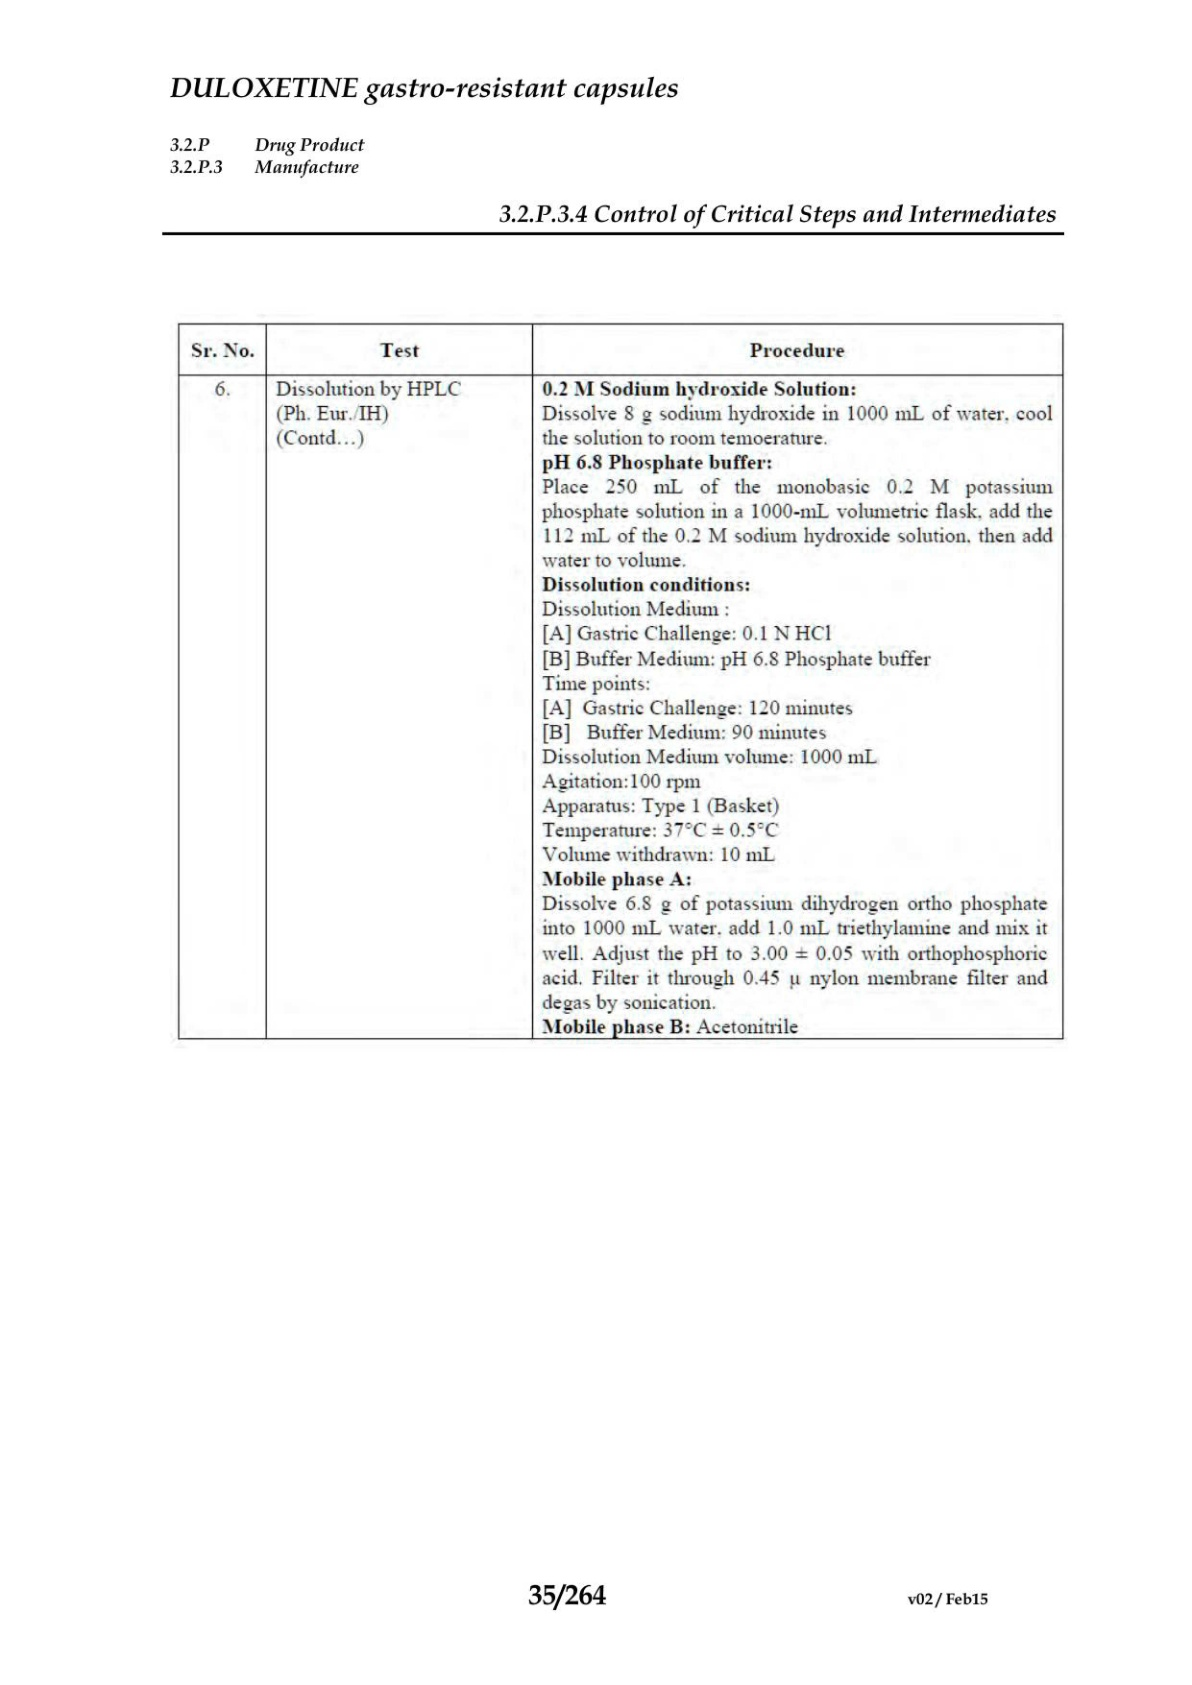full_lined: (175, 323, 1064, 1041)
